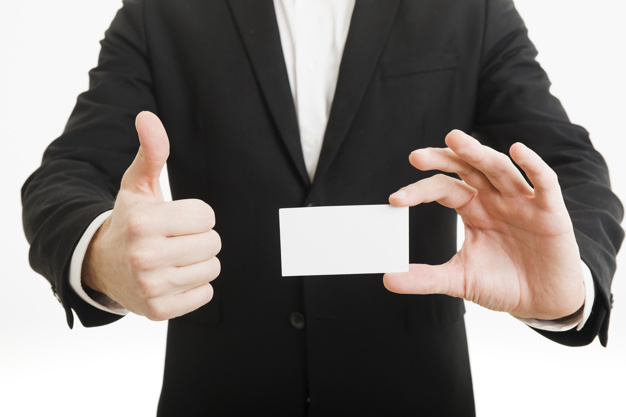thumbsup: (121, 111, 223, 321)
